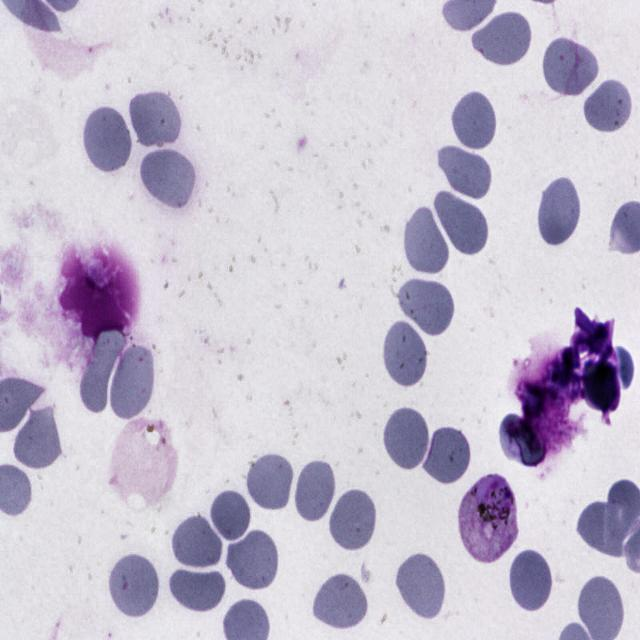difficult: (457, 471, 518, 565)
red blood cell: (78, 330, 128, 416), (107, 339, 153, 427), (80, 102, 135, 174), (404, 200, 452, 280), (106, 550, 160, 621), (140, 145, 198, 210), (535, 172, 583, 250), (378, 317, 430, 389), (10, 402, 62, 473), (435, 193, 491, 258), (224, 526, 279, 592), (380, 404, 433, 472), (396, 550, 446, 622), (310, 570, 370, 630), (542, 35, 600, 97), (327, 484, 378, 554), (394, 278, 456, 335), (126, 88, 183, 149), (470, 10, 532, 66), (450, 86, 499, 154), (244, 449, 295, 514), (437, 142, 493, 201), (573, 499, 629, 558), (580, 74, 633, 136), (508, 544, 554, 615), (421, 425, 471, 488), (292, 454, 336, 525), (171, 515, 223, 569), (167, 568, 227, 613), (208, 487, 252, 542)
